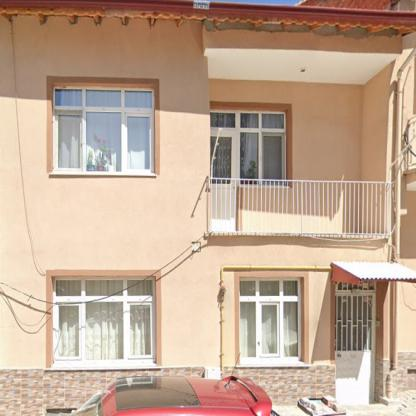door: (336, 283, 374, 402), (211, 130, 235, 230)
window: (52, 278, 154, 364), (52, 87, 154, 172), (210, 111, 284, 180), (240, 279, 300, 363)
